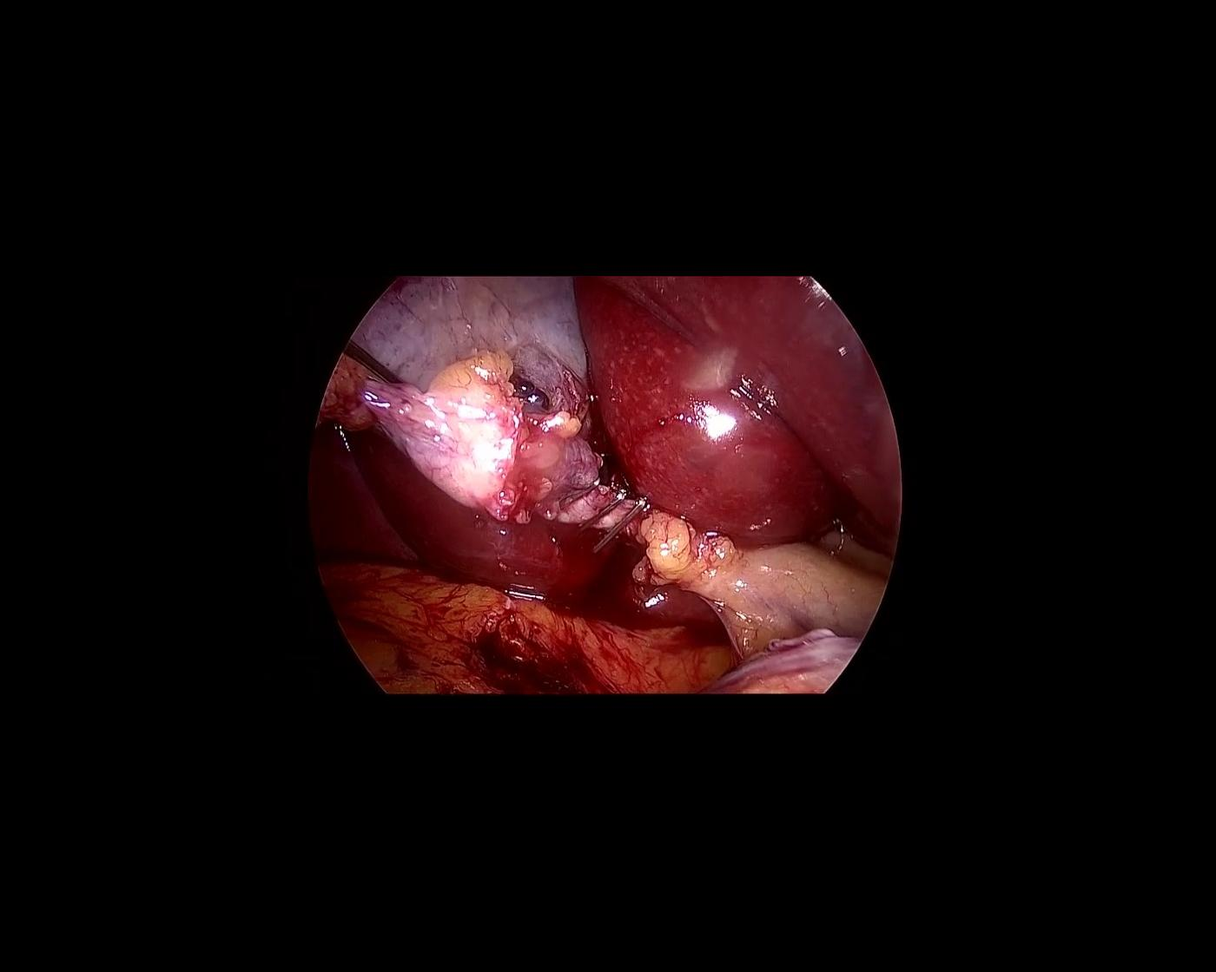Gallbladder: (319, 272, 590, 522)
Liver: (572, 276, 903, 556), (280, 406, 618, 652)
